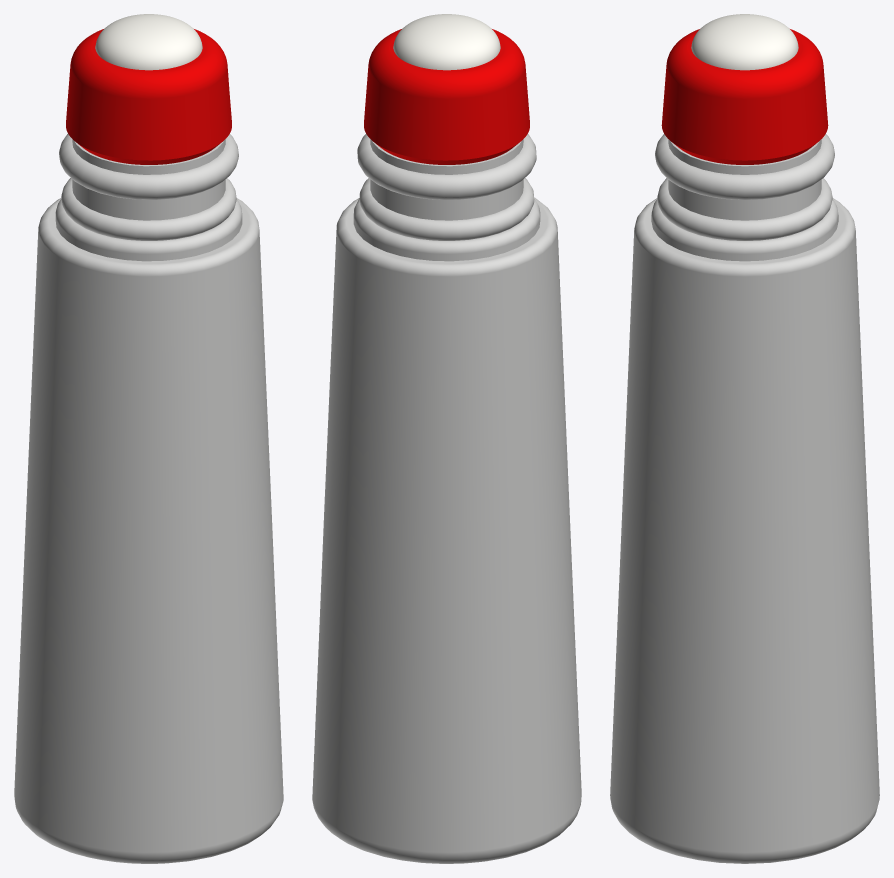
The model's file is 224_液体のり開.glb.
3 renders of one model, left to right at view 1: azimuth 30°, elevation 25°; view 2: azimuth 150°, elevation 25°; view 3: azimuth 270°, elevation 25°, orthographic.
Visible parts, largest first — view 1: Body1; view 2: Body1; view 3: Body1.
Boxes of the visible parts, x1,y1,x2,y2 form: Body1: (14, 14, 283, 863); Body1: (312, 14, 581, 863); Body1: (610, 14, 879, 863).
Bounding box in the file's own units: 0.0281 × 0.0905 × 0.0281.
